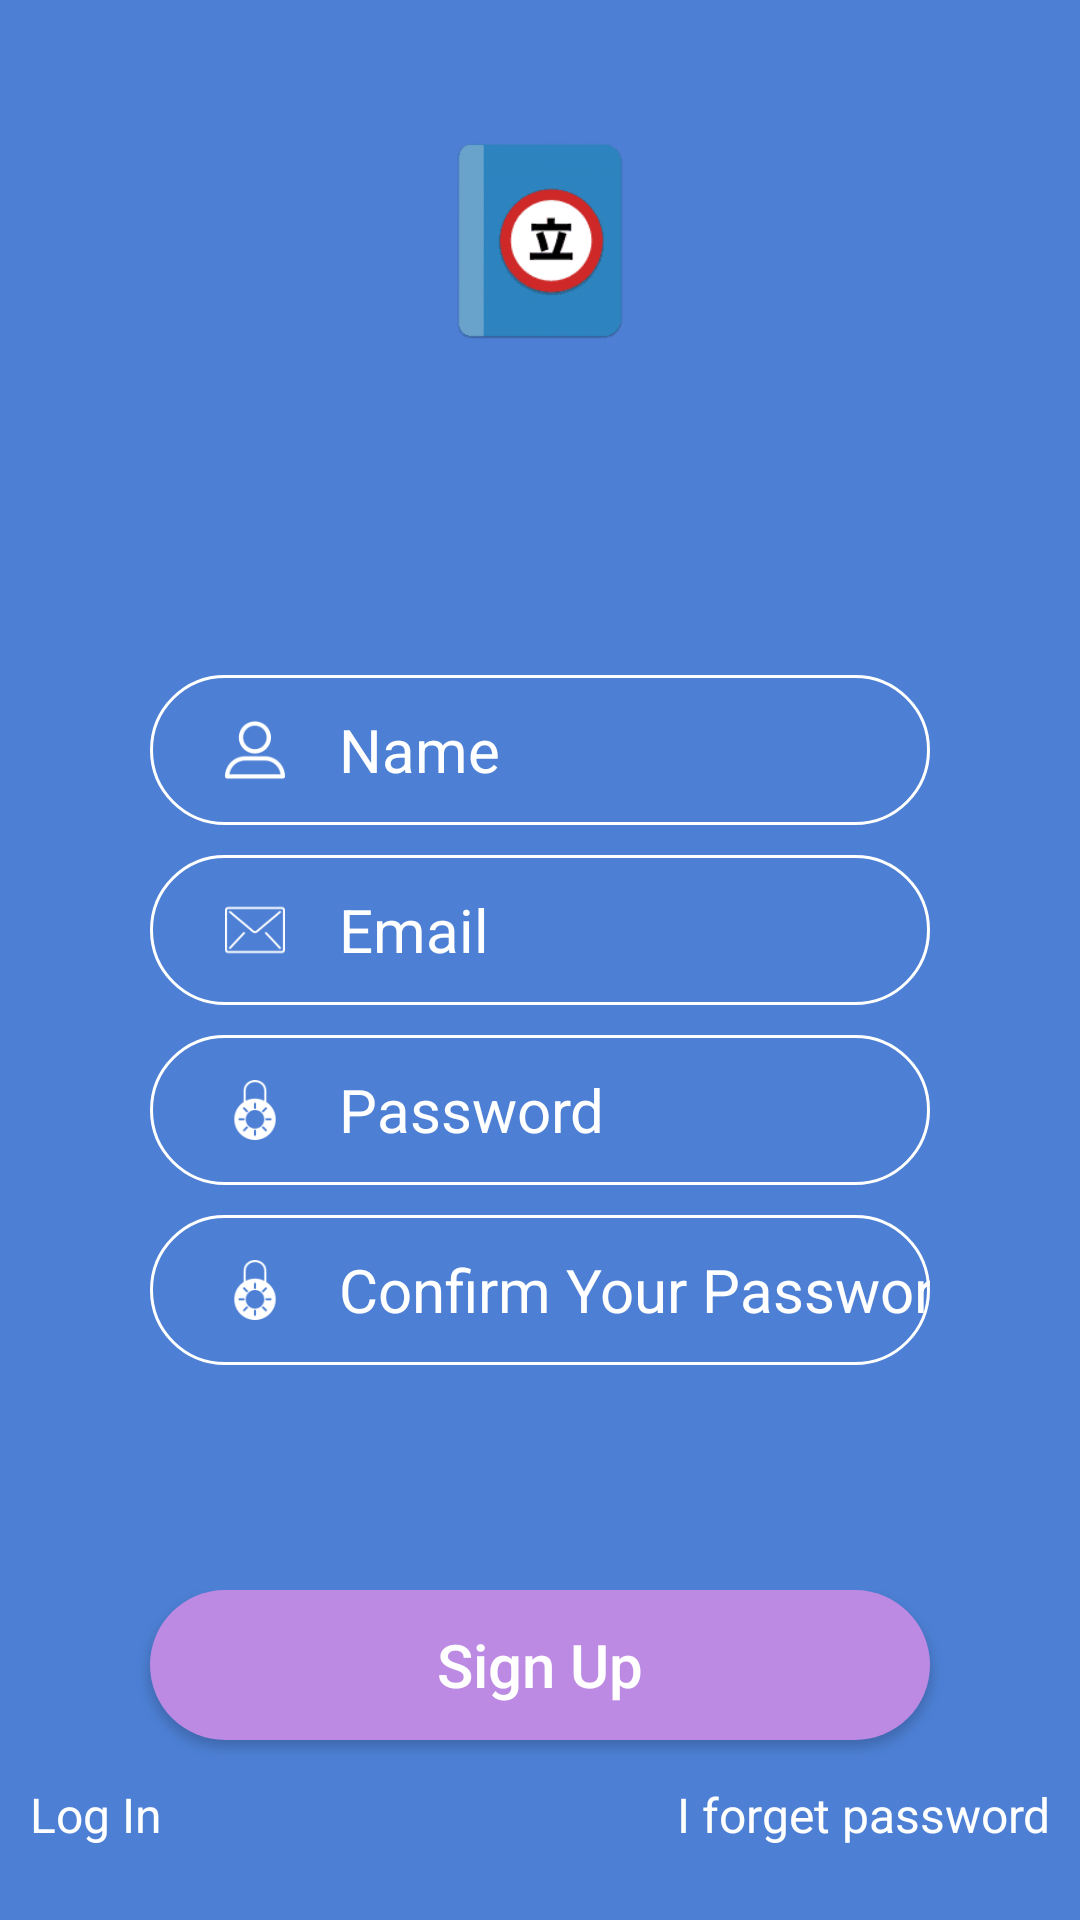

Where to tap for icons on this 1080*1920 app screen, as (x,y):
locked: (255,1110), (255,1290)
profile: (255,750)
